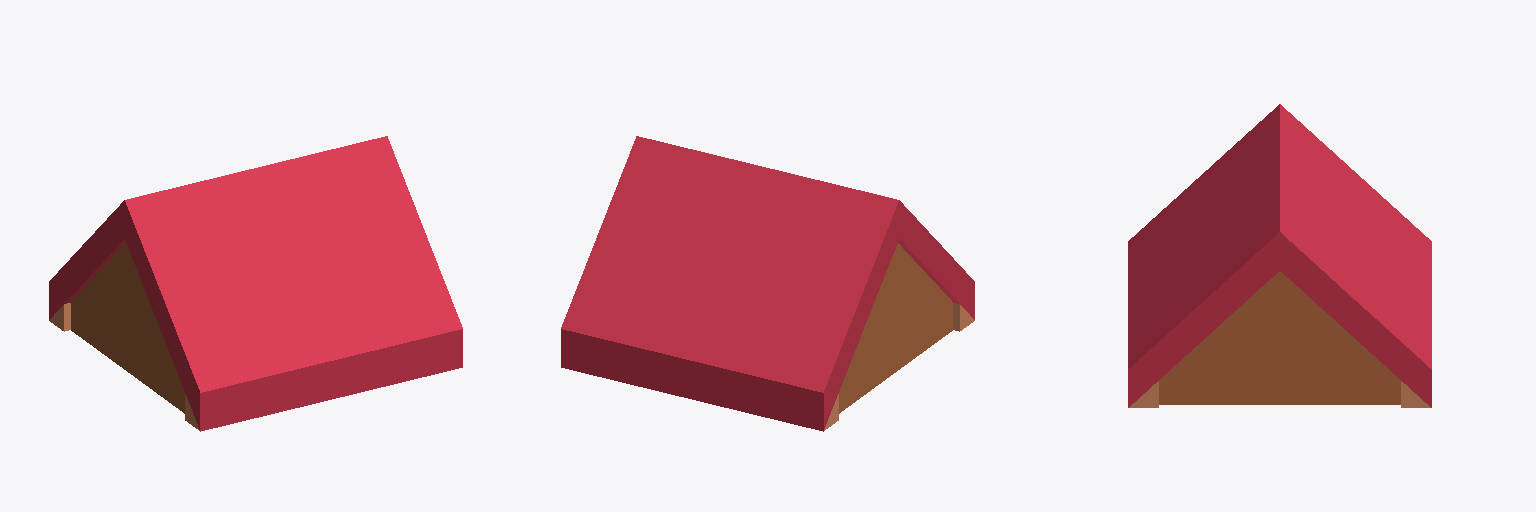
The model's file is roofHighGableTop.obj.
3 renders of one model, left to right at view 1: azimuth 30°, elevation 25°; view 2: azimuth 150°, elevation 25°; view 3: azimuth 270°, elevation 25°, orthographic.
Parts seen in each view (by area): view 1: roofHighGableTop; view 2: roofHighGableTop; view 3: roofHighGableTop.
Boxes of the visible parts, x1=… form: roofHighGableTop: x1=49, y1=136, x2=462, y2=431; roofHighGableTop: x1=561, y1=136, x2=974, y2=431; roofHighGableTop: x1=1128, y1=104, x2=1431, y2=407.
Bounding box in the file's own units: 1 × 0.6407 × 1.